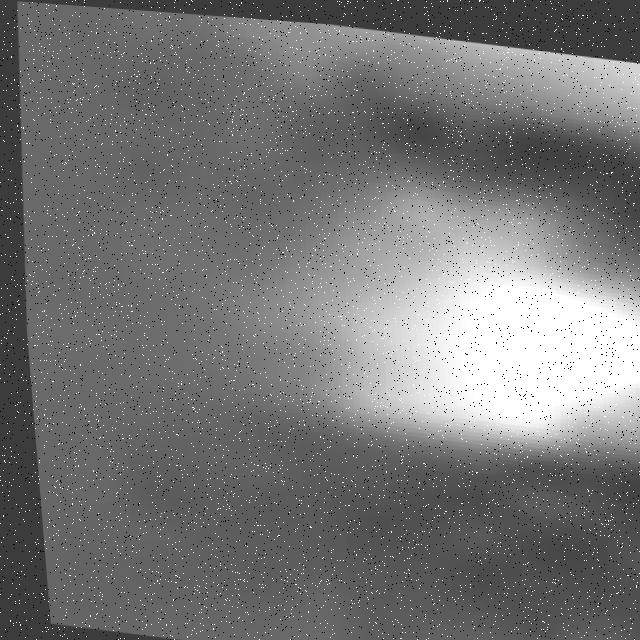person: (228, 167, 640, 464), (197, 12, 640, 152)
